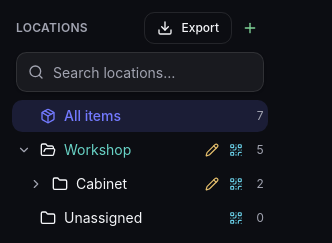
it: LocationSidebar — name search (issue #129) › matches on the ancestry path, so a parent name narrows to its subtree
The image size is (332, 243).
Type "workshop" into the field labelled "Search locations" at (140, 72), box [16, 52, 264, 92]
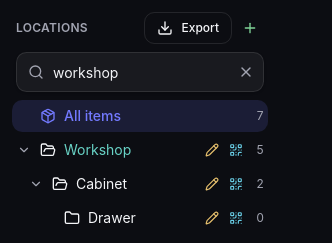
Expected: the list item "Workshop" is shown, [12, 134, 268, 166]
Now the text "Unassigned" is gone
